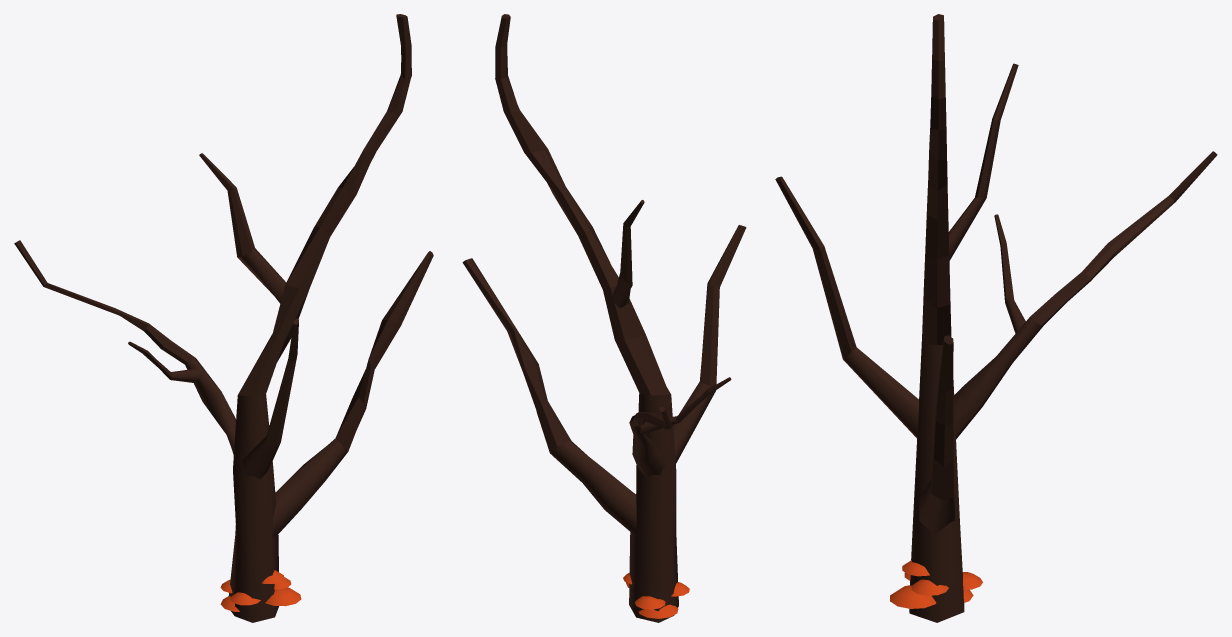
File: DeadTree_1.FBX
The picture shows the model from 3 angles, left to right: view 1: azimuth 30°, elevation 25°; view 2: azimuth 150°, elevation 25°; view 3: azimuth 270°, elevation 25°; orthographic projection. The views are drawn at different scales.
Visible parts, largest first — view 1: dead tree004; view 2: dead tree004; view 3: dead tree004.
Boxes of the visible parts, x1,y1,x2,y2 form: dead tree004: (14, 14, 433, 622); dead tree004: (462, 14, 746, 622); dead tree004: (775, 14, 1217, 622).
Size of the model in its own units: 29.92 by 51.57 by 30.47.
